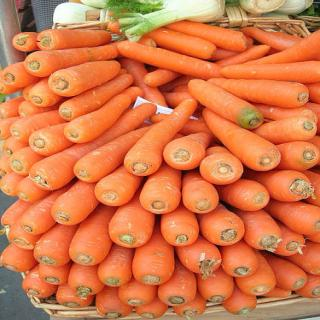Wortel: (2, 4, 320, 306)
